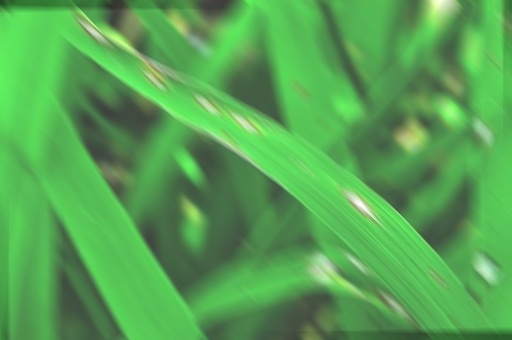Brown_Spot: (71, 14, 118, 44), (340, 186, 383, 216), (469, 117, 494, 155), (141, 67, 177, 87), (230, 111, 256, 132), (195, 90, 219, 112)
